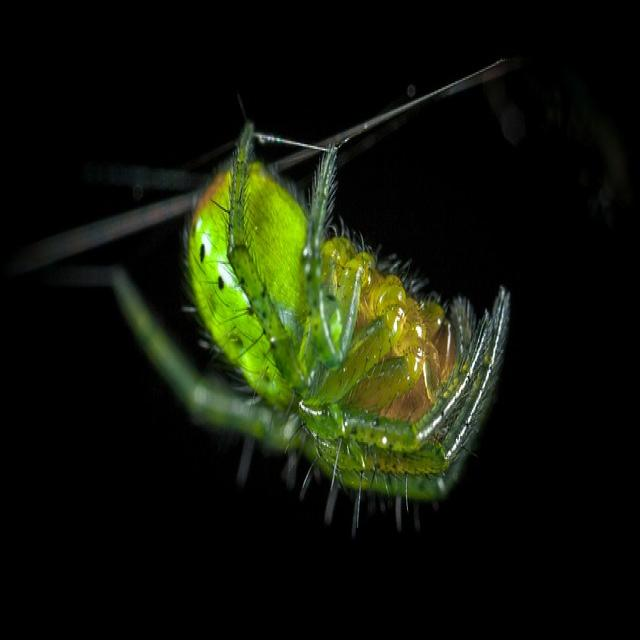spyder: (110, 125, 509, 500)
